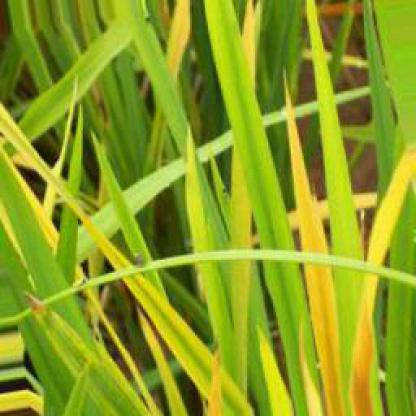Tungro: (3, 108, 245, 412), (269, 74, 352, 407), (347, 147, 415, 414), (237, 3, 262, 89), (172, 3, 198, 83)
